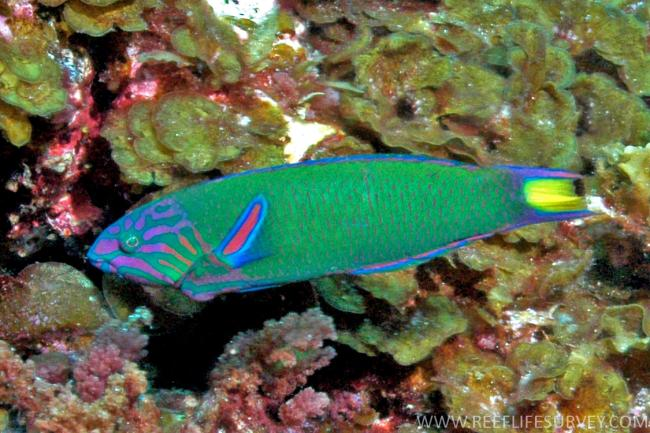fish: (87, 152, 605, 302)
